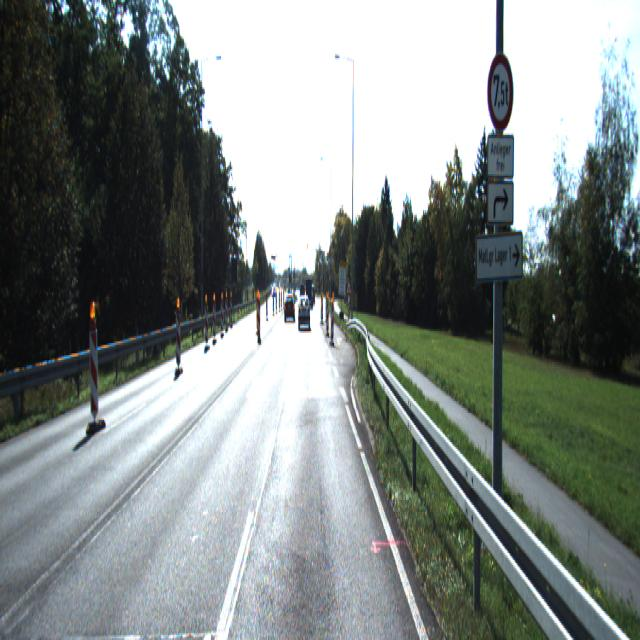Car: (298, 299, 310, 330), (285, 294, 295, 323)
